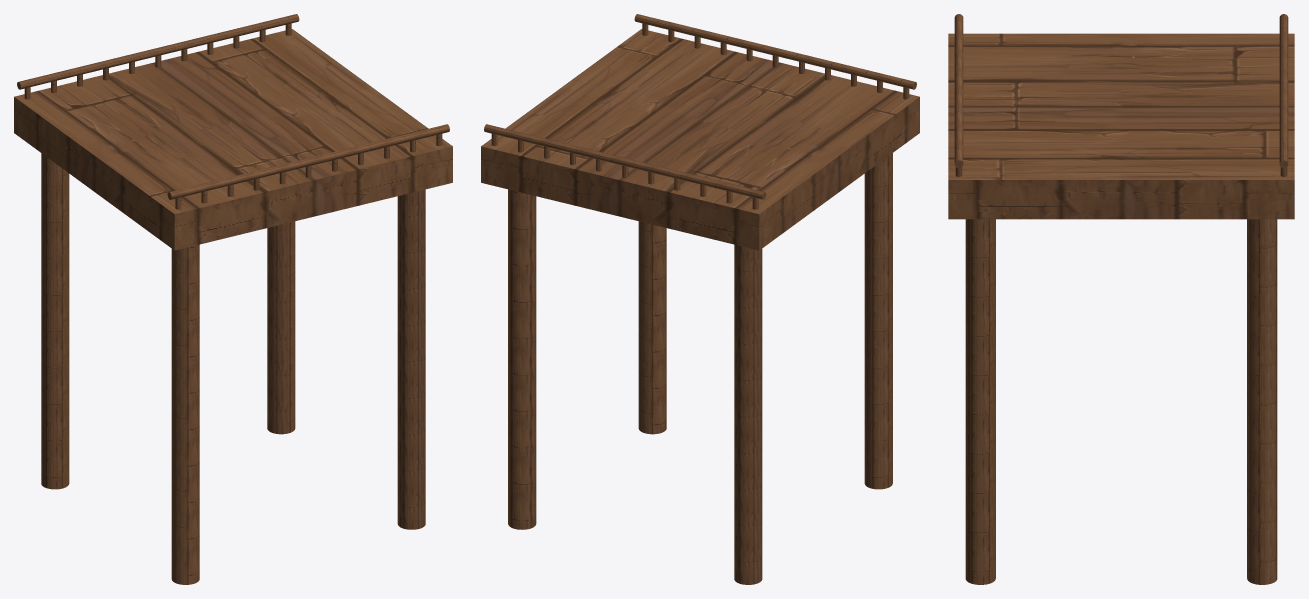
3 renders of one model, left to right at view 1: azimuth 30°, elevation 25°; view 2: azimuth 150°, elevation 25°; view 3: azimuth 270°, elevation 25°, orthographic. The views are drawn at different scales.
Visible parts, largest first — view 1: Ground.002, pillar.000; view 2: Ground.002, pillar.000; view 3: Ground.002, pillar.000.
Part boxes in pixels (x1,y1,x2,y2): Ground.002: (14,29,452,250); pillar.000: (17,14,449,584); Ground.002: (481,29,919,250); pillar.000: (484,14,916,584); Ground.002: (948,33,1294,219); pillar.000: (954,14,1288,584).
Size of the model in its own units: 1600 by 2200 by 1600.
